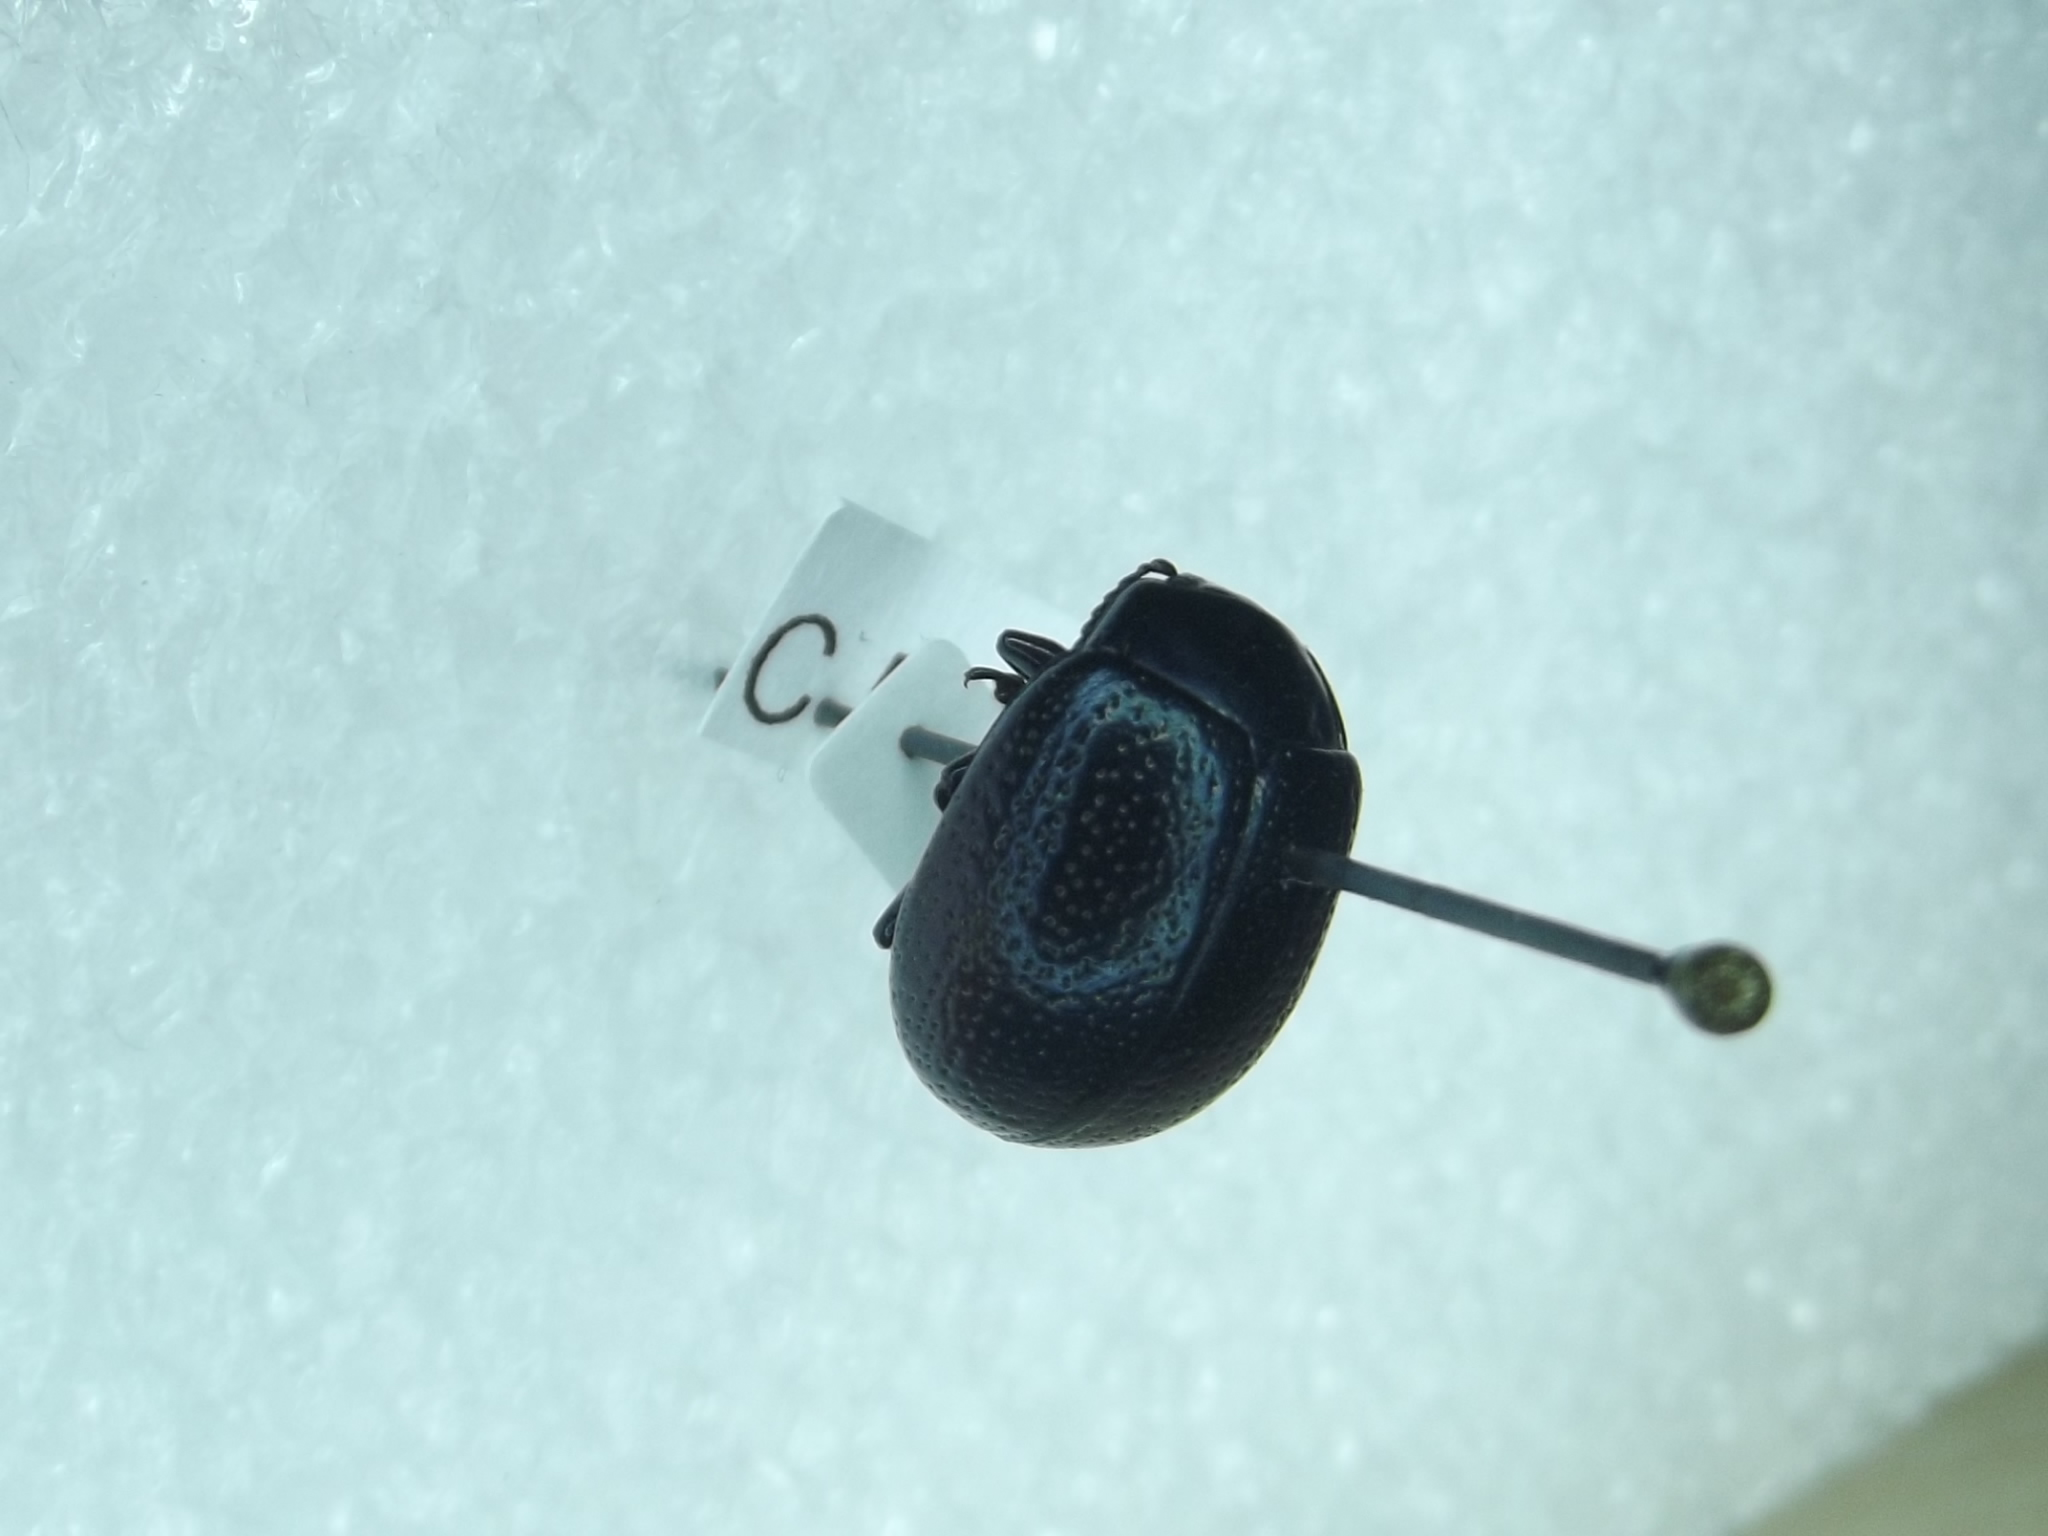Chrysolina_oricalcia: (861, 541, 1372, 1155)
